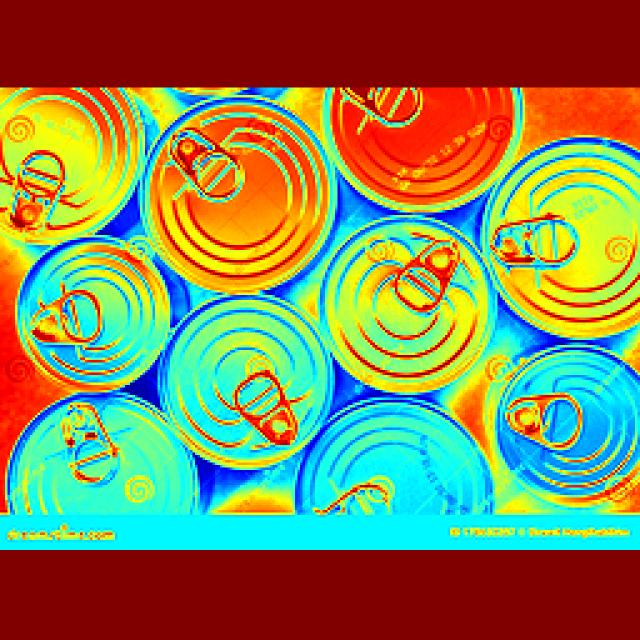Aluminium Food Cans: (138, 101, 326, 279), (322, 206, 498, 386), (7, 389, 211, 544), (485, 140, 640, 340), (166, 293, 328, 476), (300, 397, 497, 538), (500, 328, 640, 508), (20, 242, 176, 386), (2, 88, 150, 233)
